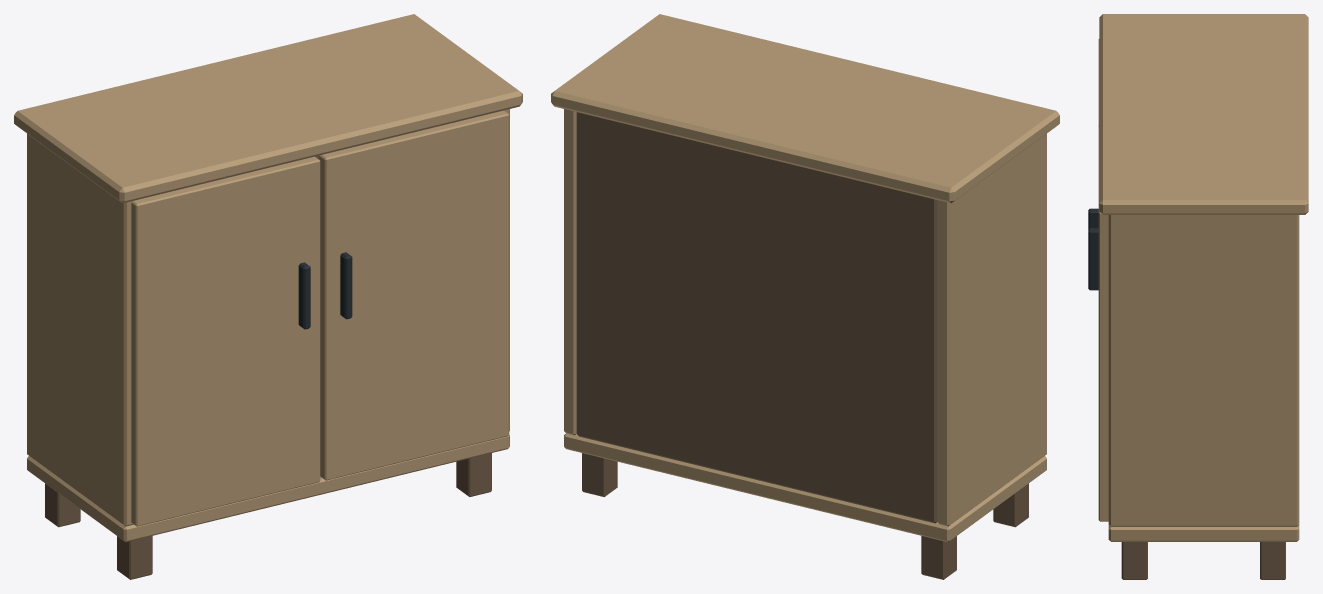
Rendered from cabinet_simple.glb.
The picture shows the model from 3 angles, left to right: view 1: azimuth 30°, elevation 25°; view 2: azimuth 150°, elevation 25°; view 3: azimuth 270°, elevation 25°; orthographic projection. The views are drawn at different scales.
Visible parts, largest first — view 1: cabinet_simple; view 2: cabinet_simple; view 3: cabinet_simple.
Boxes of the visible parts, x1,y1,x2,y2 form: cabinet_simple: [14, 14, 522, 579]; cabinet_simple: [551, 14, 1059, 579]; cabinet_simple: [1088, 14, 1308, 579].
Bounding box in the file's own units: 0.94 × 0.9 × 0.463.
